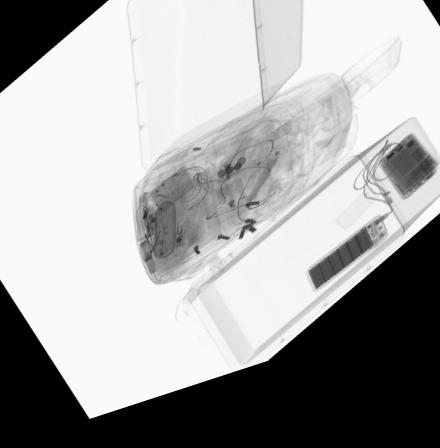Powerbank: (307, 238, 389, 311)
